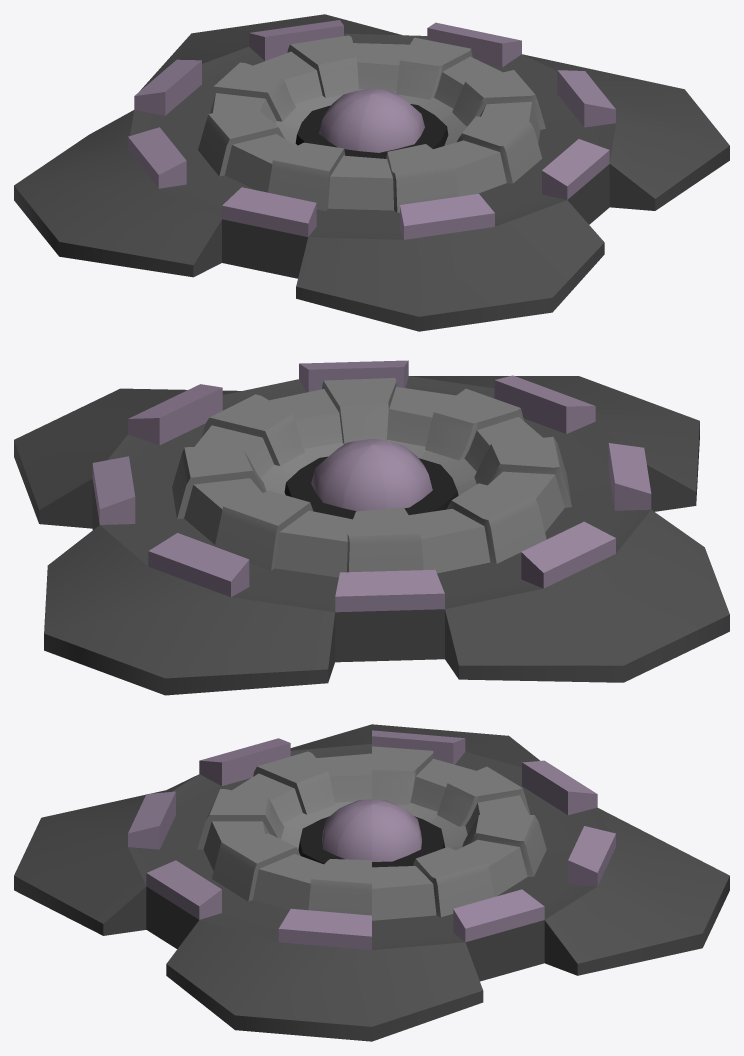
File: TeleportPad.fbx
3 renders of one model, top to bottom at view 1: azimuth 30°, elevation 25°; view 2: azimuth 150°, elevation 25°; view 3: azimuth 270°, elevation 25°, orthographic. The views are drawn at different scales.
Visible parts, largest first — view 1: polySurface14, polySurface12, polySurface29, polySurface11, polySurface27, polySurface13; view 2: polySurface14, polySurface12, polySurface29, polySurface11, polySurface27, polySurface13; view 3: polySurface14, polySurface12, polySurface29, polySurface11, polySurface13, polySurface27.
Boxes of the visible parts, x1,y1,x2,y2 form: polySurface14: (14,14,729,331); polySurface12: (198,35,545,212); polySurface29: (134,20,615,239); polySurface11: (319,88,424,152); polySurface27: (128,127,186,188); polySurface13: (295,104,448,158); polySurface14: (14,376,729,695); polySurface12: (172,378,571,577); polySurface29: (92,360,651,612); polySurface11: (311,438,432,511); polySurface27: (521,521,615,588); polySurface13: (284,456,458,519); polySurface14: (14,724,729,1041); polySurface12: (197,746,546,920); polySurface29: (128,738,615,949); polySurface11: (322,799,421,861); polySurface13: (298,816,445,867); polySurface27: (372,730,465,764).
Size of the model in its own units: 4.94 by 0.655 by 4.94.
